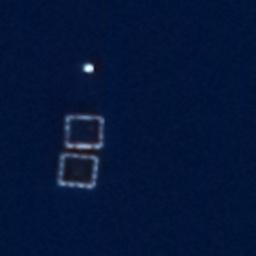square_solid: (50, 146, 103, 193), (59, 107, 110, 154)
